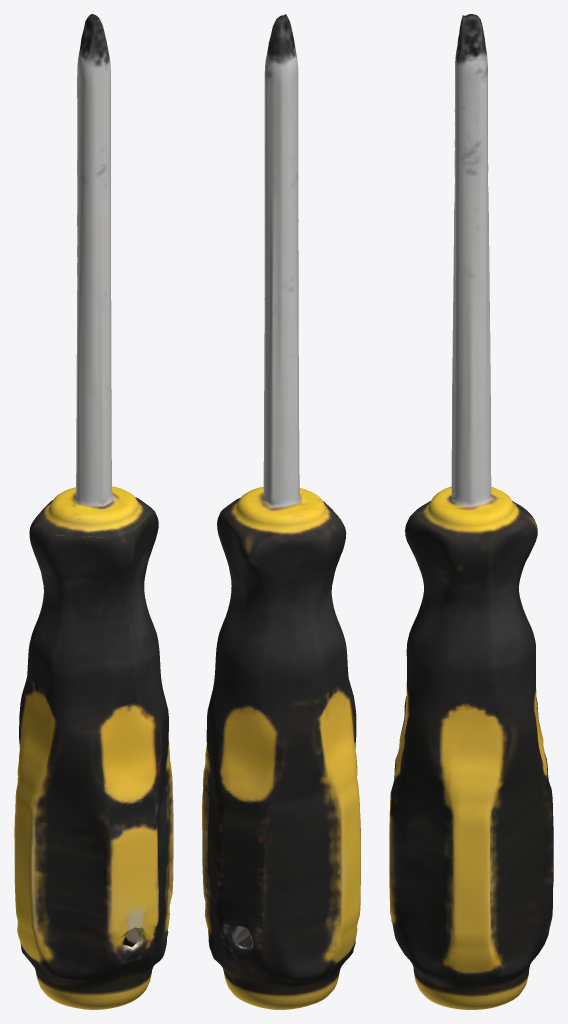
Rendered from screwdriver.glb.
The picture shows the model from 3 angles, left to right: view 1: azimuth 30°, elevation 25°; view 2: azimuth 150°, elevation 25°; view 3: azimuth 270°, elevation 25°; orthographic projection.
Visible parts, largest first — view 1: model; view 2: model; view 3: model.
Boxes of the visible parts, x1,y1,x2,y2 form: model: (14,14,173,1009); model: (202,14,360,1009); model: (389,14,553,1009).
Size of the model in its own units: 0.289 by 1.89 by 0.2871.
1 material, 1 textured.
